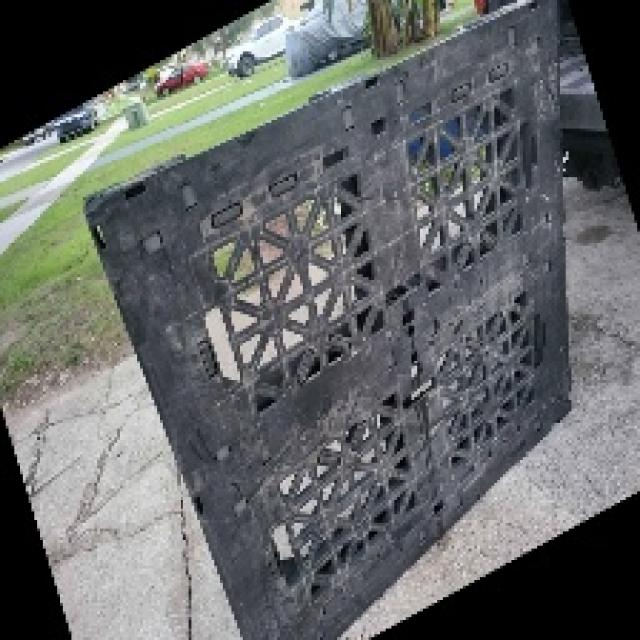igps: (76, 0, 582, 640)
